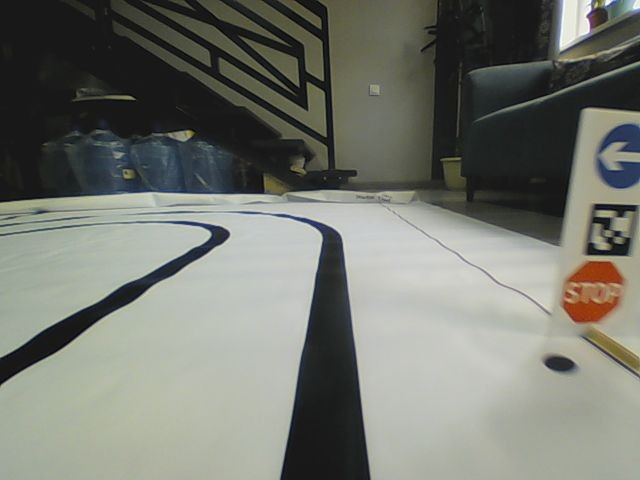Stop: (560, 258, 624, 327)
